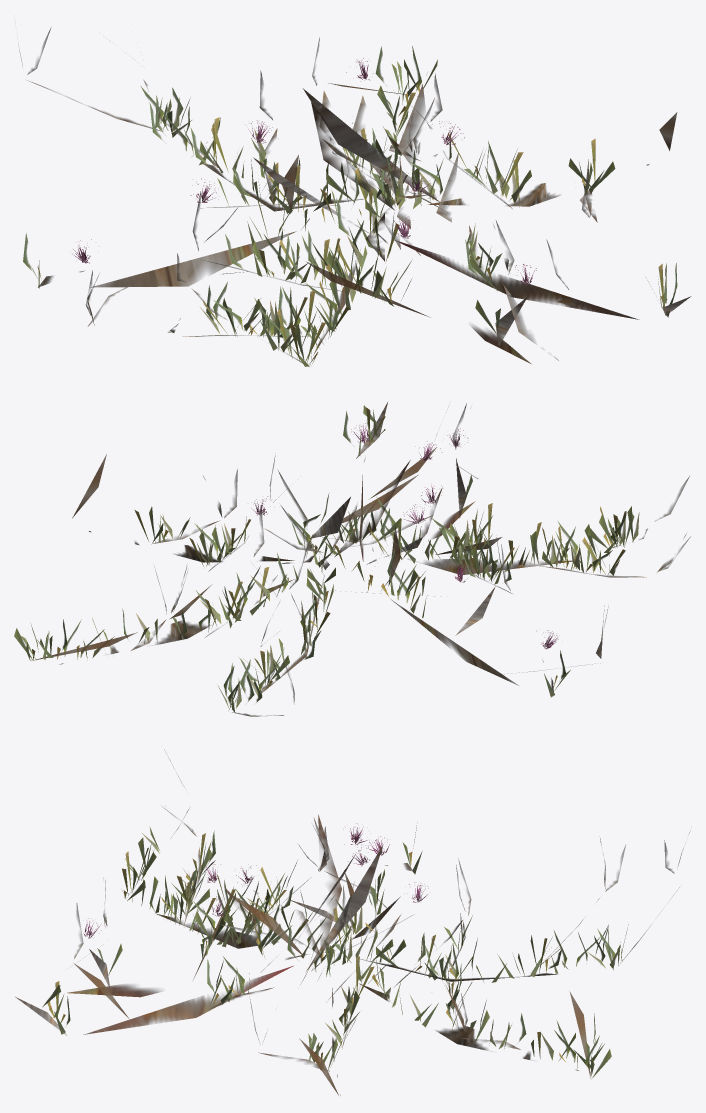
File: nama_succulent.glb
3 views of the same model, one above another, from view 1: azimuth 30°, elevation 25°; view 2: azimuth 150°, elevation 25°; view 3: azimuth 270°, elevation 25° (orthographic). The views are drawn at different scales.
Parts seen in each view (by area): view 1: nama_succulent; view 2: nama_succulent; view 3: nama_succulent.
Part boxes in pixels (box(x1,y1,x2,y2)): nama_succulent: box(14, 19, 691, 366); nama_succulent: box(14, 402, 690, 716); nama_succulent: box(15, 749, 690, 1095).
Size of the model in its own units: 1.01 by 0.2975 by 1.15.
Materials: 1 (1 with a texture image).
